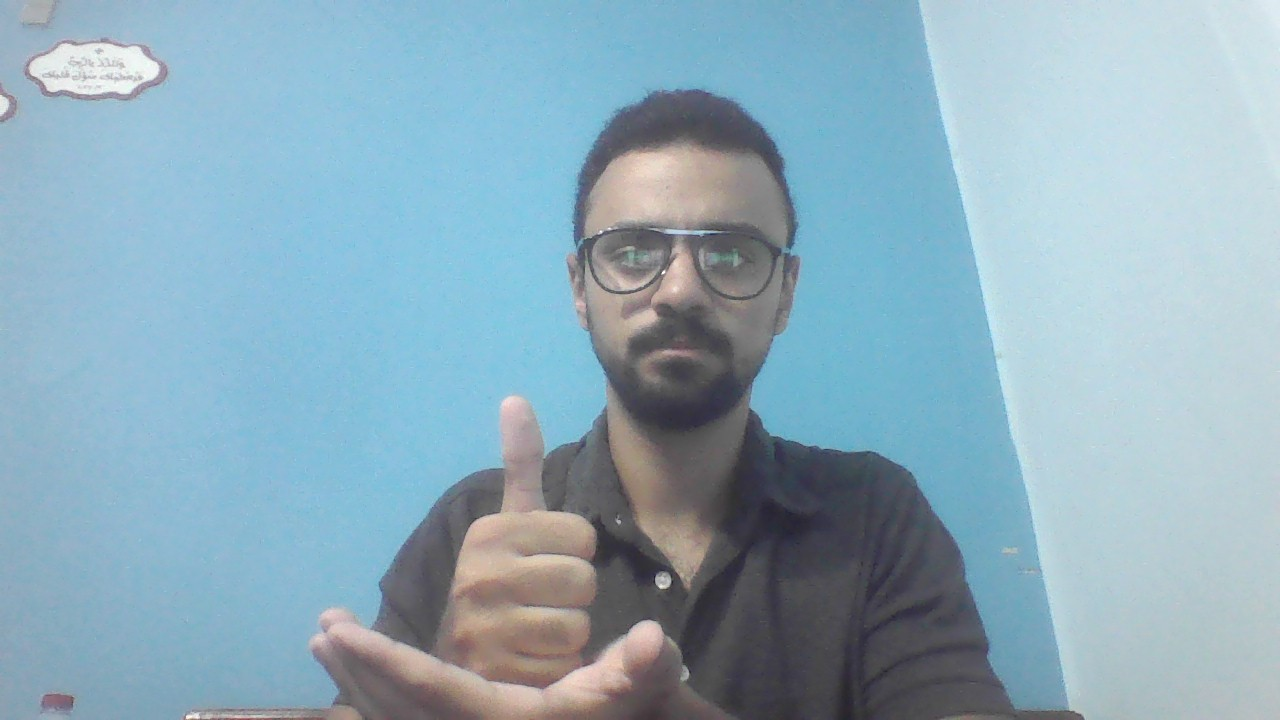help: (316, 393, 696, 720)
